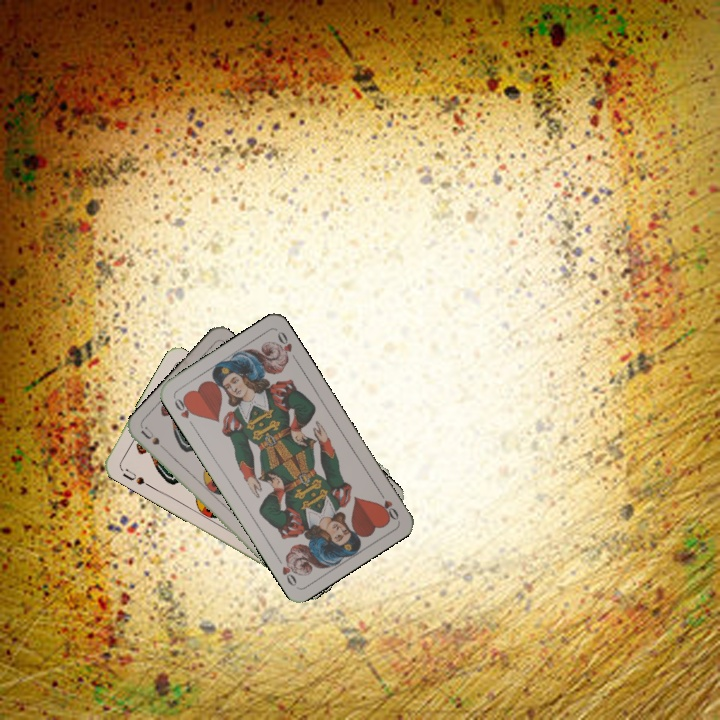HO: (170, 393, 198, 430), (374, 486, 401, 523)
SU: (137, 424, 172, 457), (119, 464, 153, 489)
